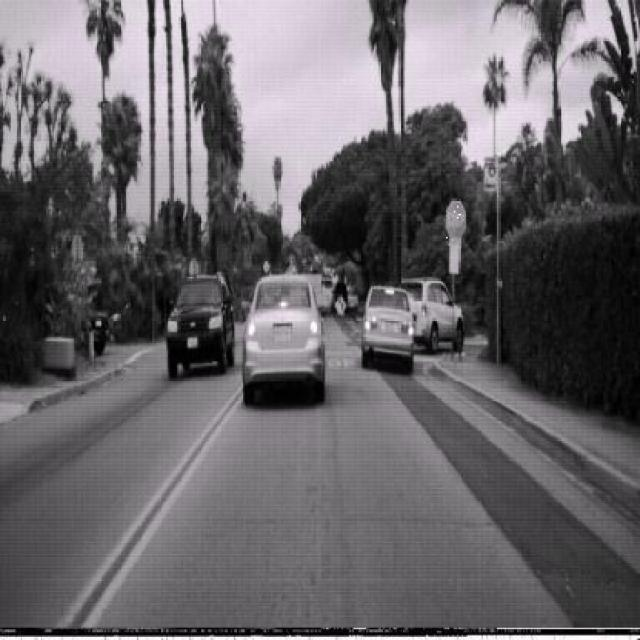stop: (445, 198, 466, 240)
